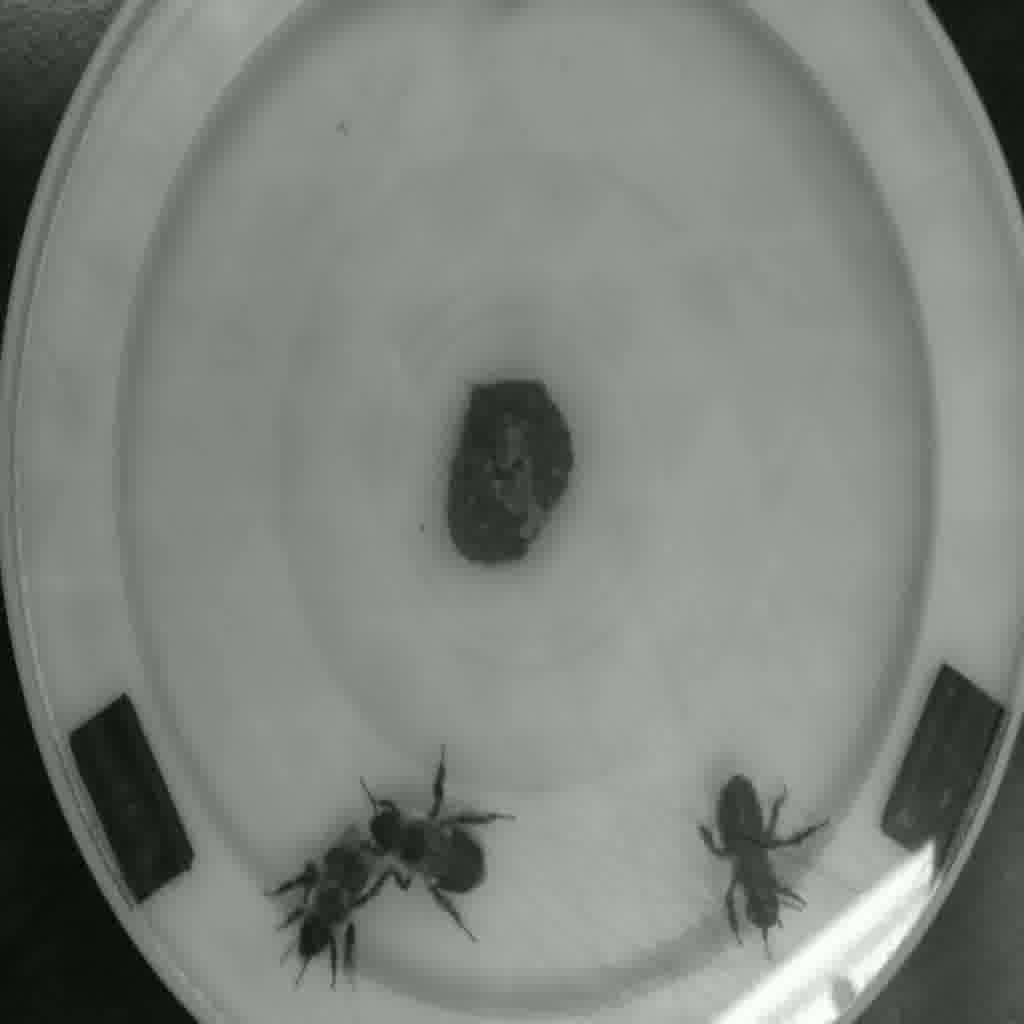bee: (681, 766, 826, 940), (269, 828, 397, 983), (367, 766, 488, 925)
